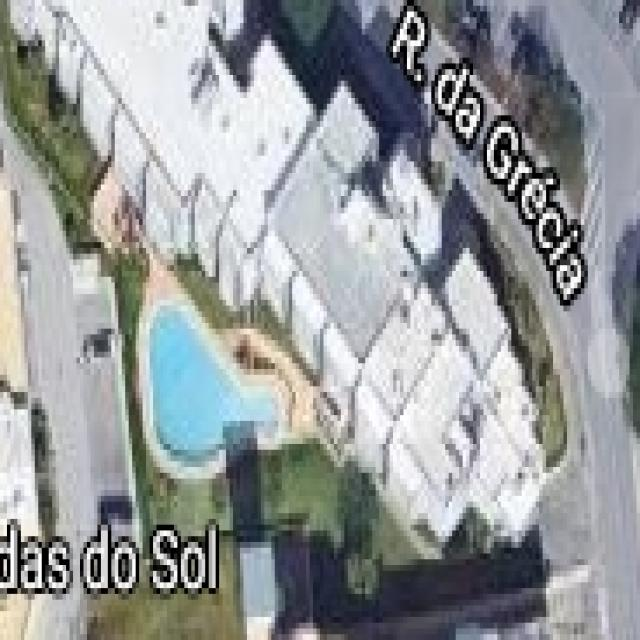pool: (136, 282, 278, 473)
